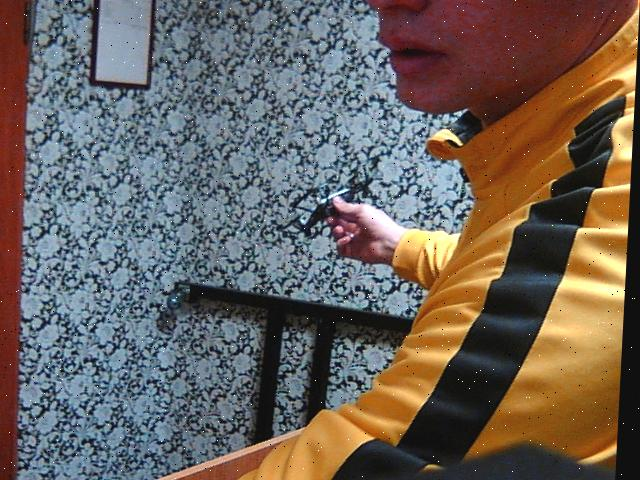drone: (282, 154, 386, 236)
